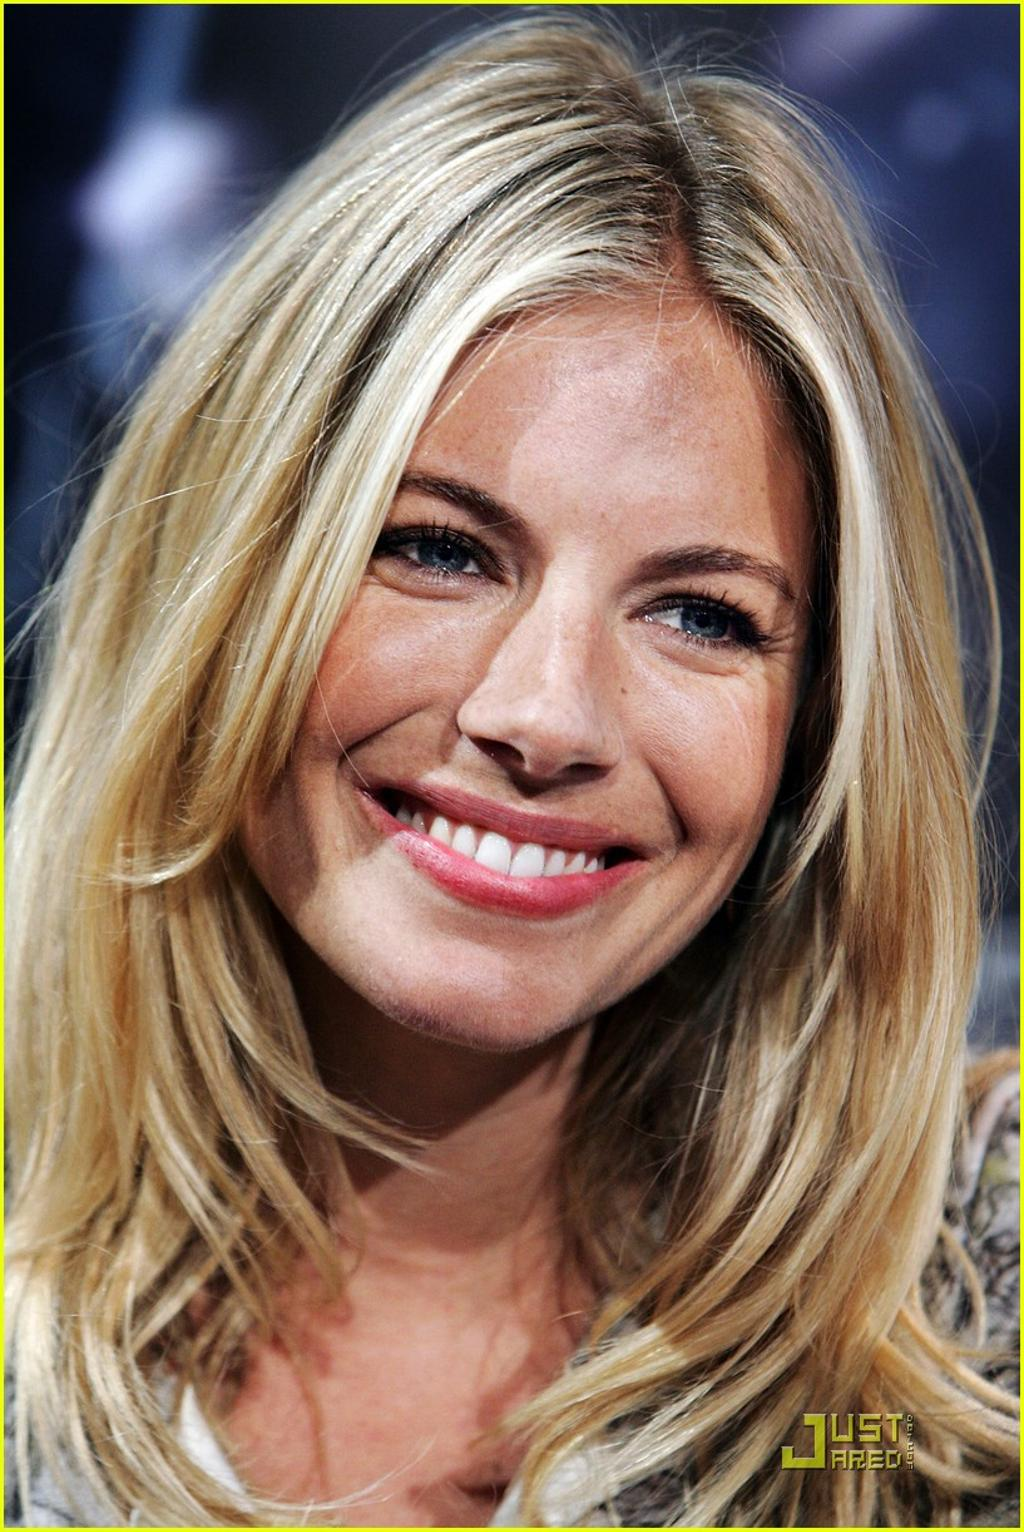face: (266, 269, 811, 1053)
